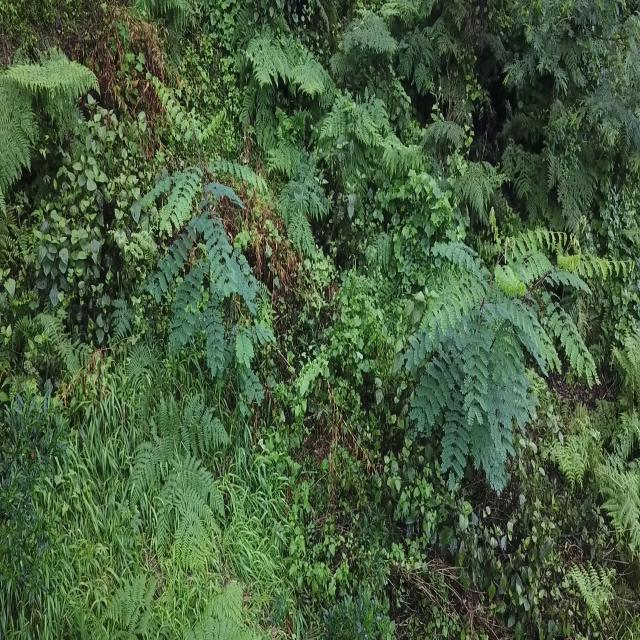Mysore-Thorn-Weed: (406, 212, 558, 502), (135, 119, 275, 398)
